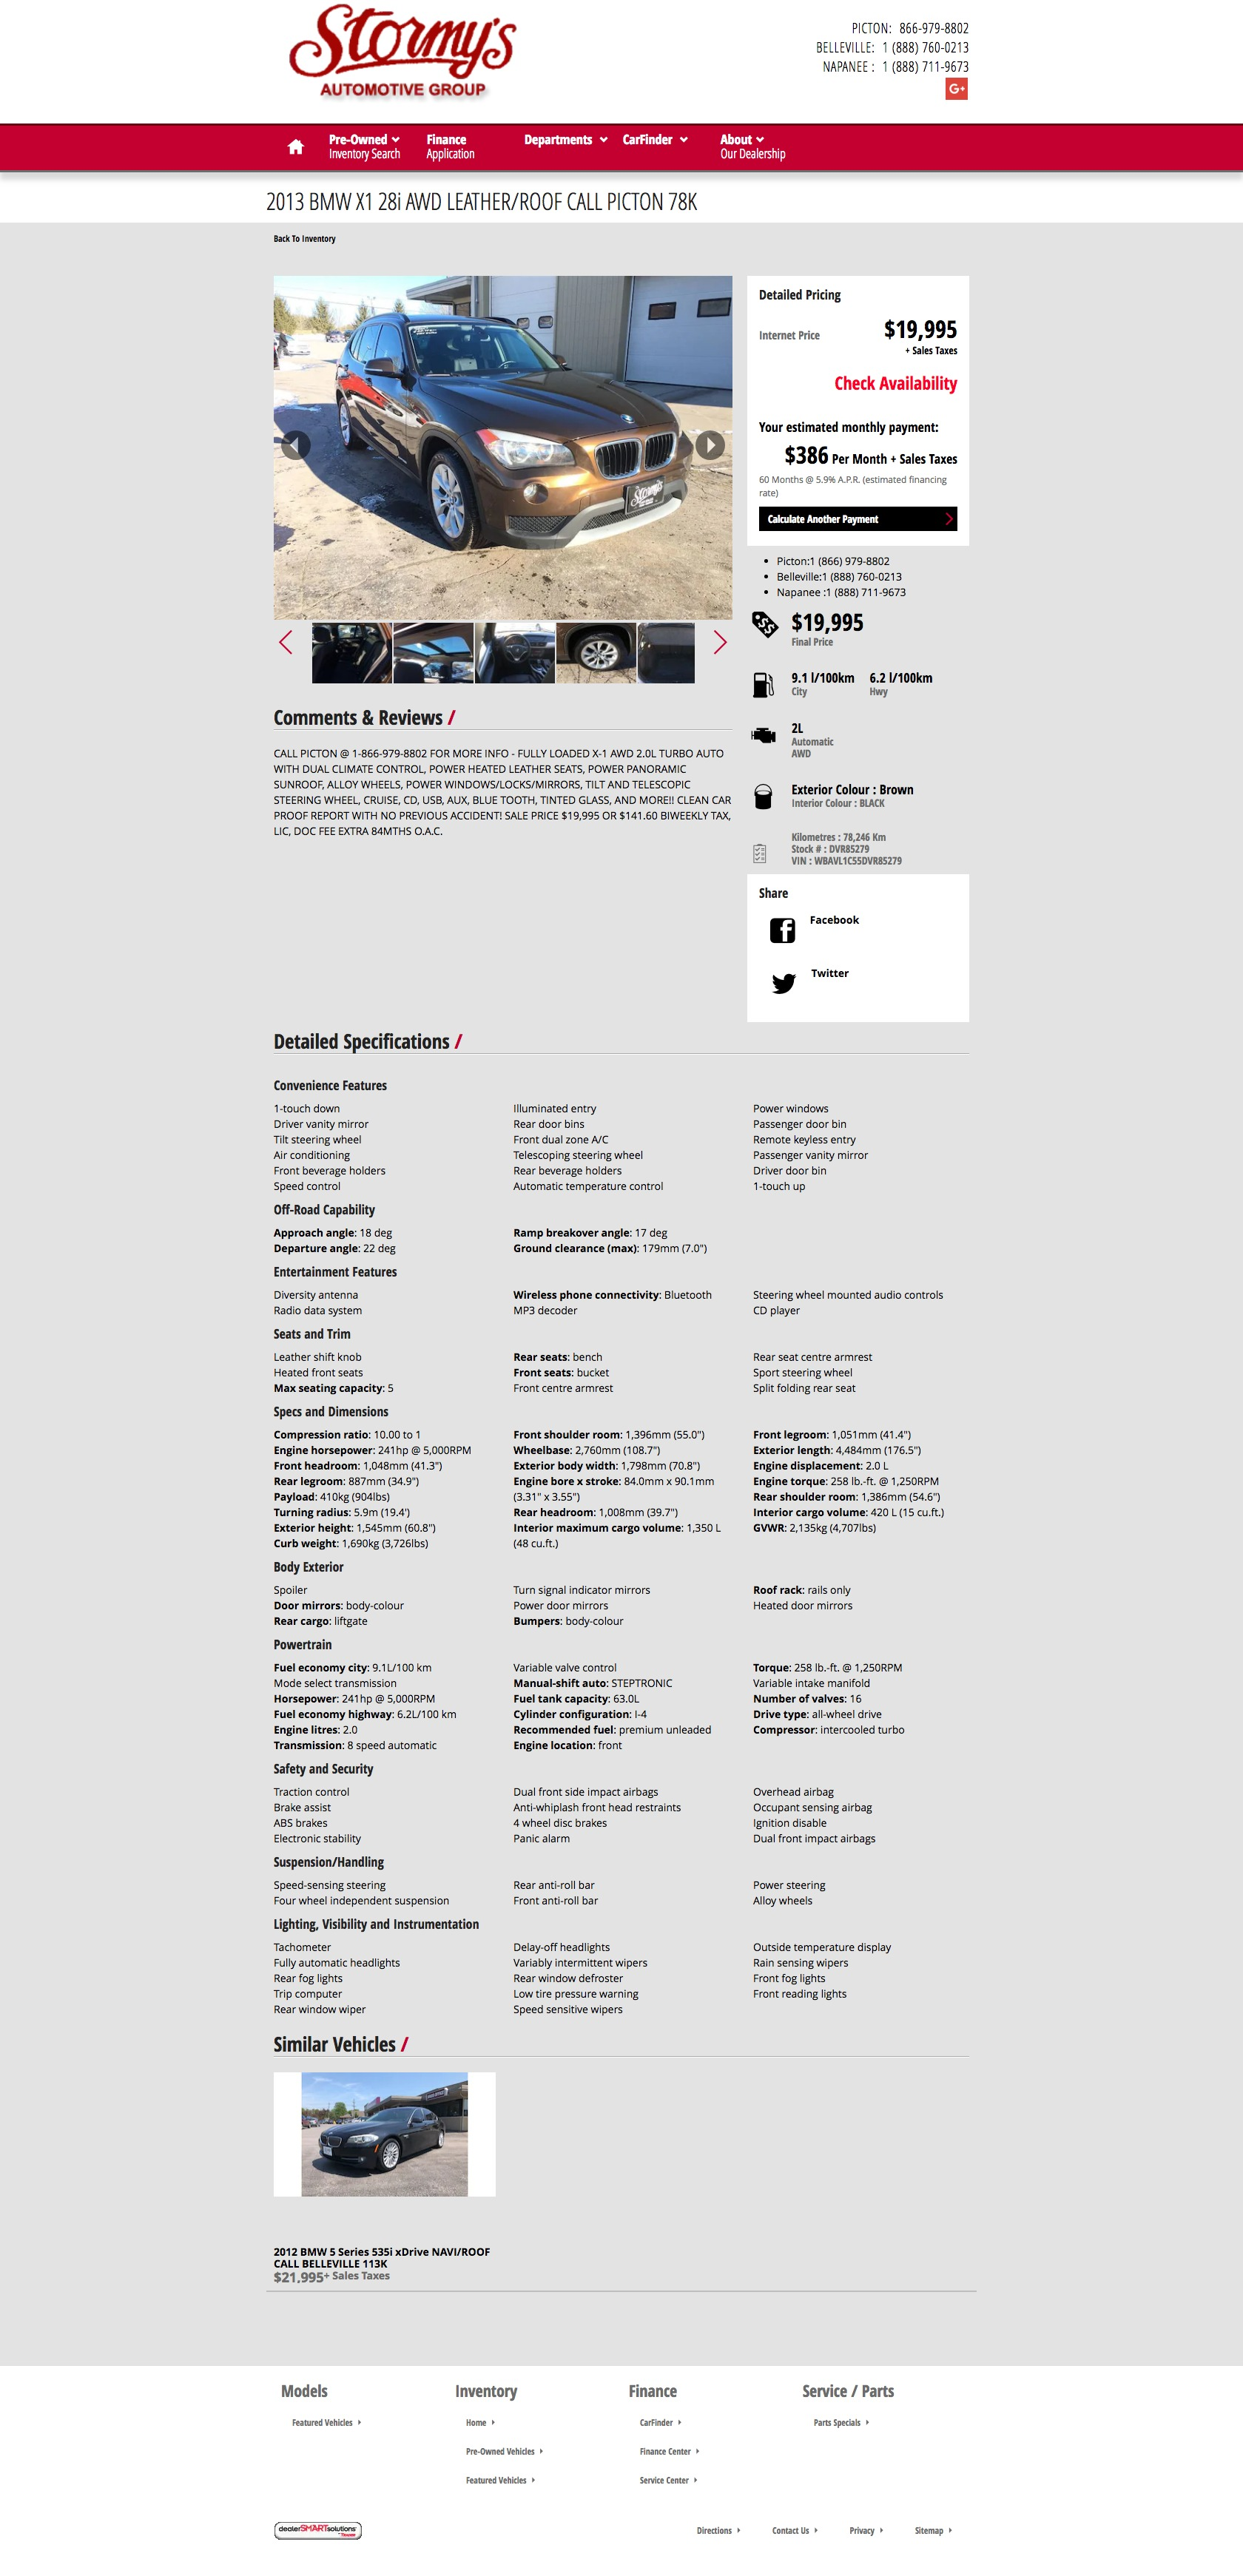car: (714, 629, 728, 657)
